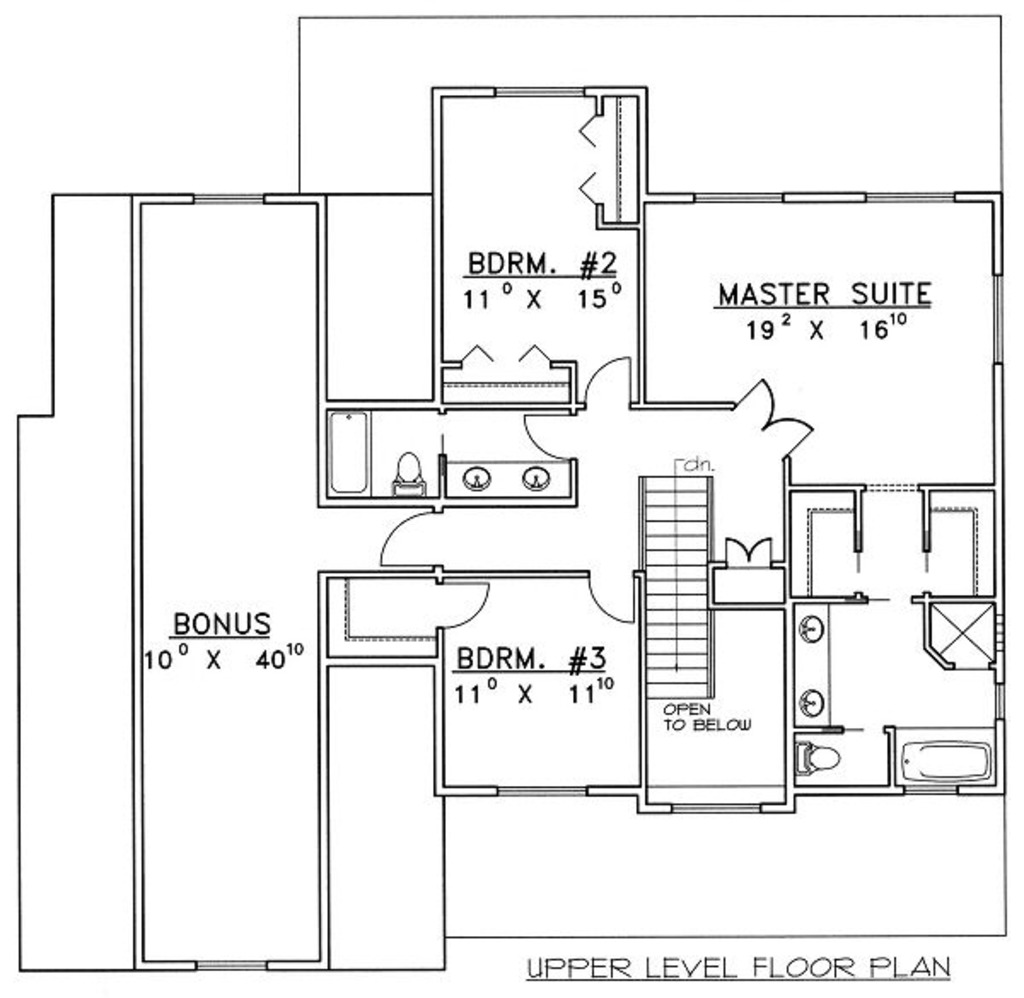door: (722, 364, 816, 459), (375, 505, 444, 571), (434, 572, 497, 631), (580, 347, 637, 411), (584, 566, 644, 625), (522, 408, 584, 465), (718, 532, 780, 564)
large_sink: (379, 441, 429, 499), (794, 734, 846, 777)
small_sink: (450, 460, 577, 505), (796, 595, 829, 725)
stairs: (639, 473, 714, 706)
tub: (883, 719, 997, 788), (328, 412, 379, 506)
